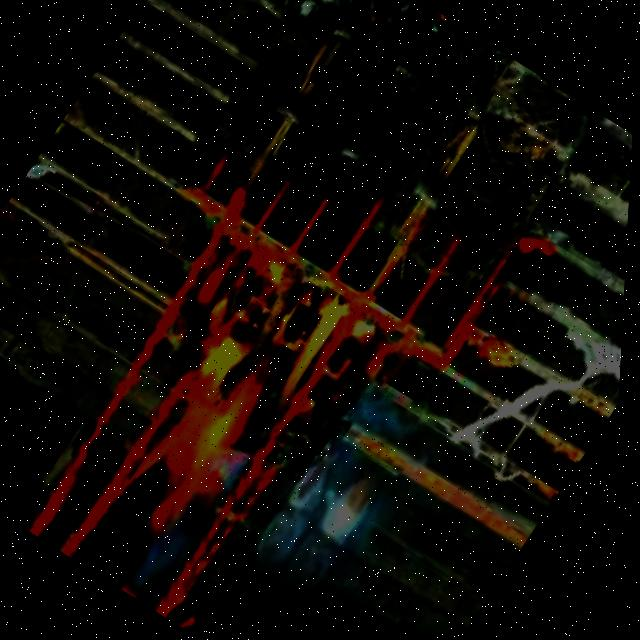Fire: (111, 240, 374, 538)
